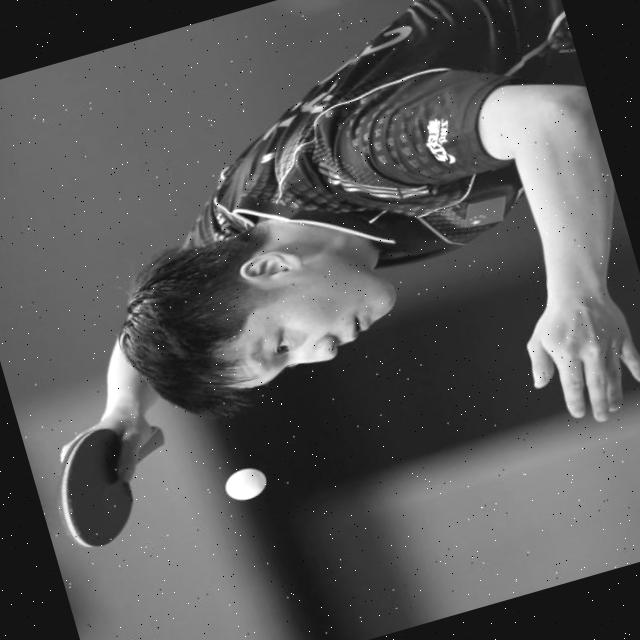ping-pong-ball: (212, 458, 278, 510)
